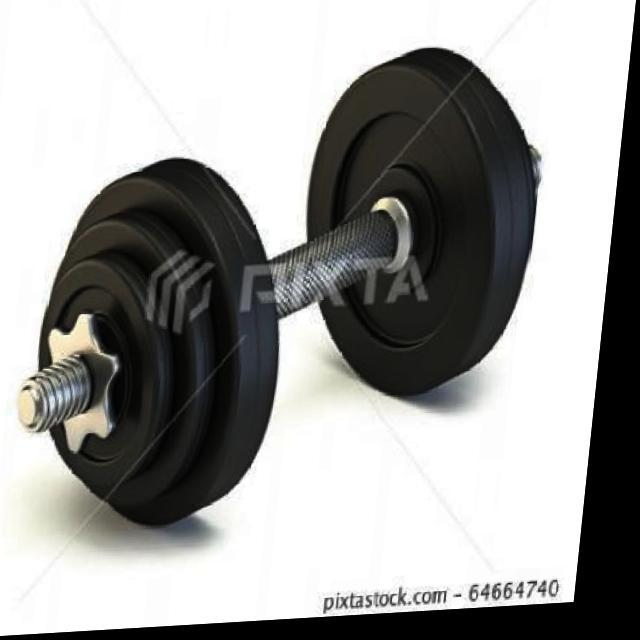barbell: (13, 157, 310, 545)
